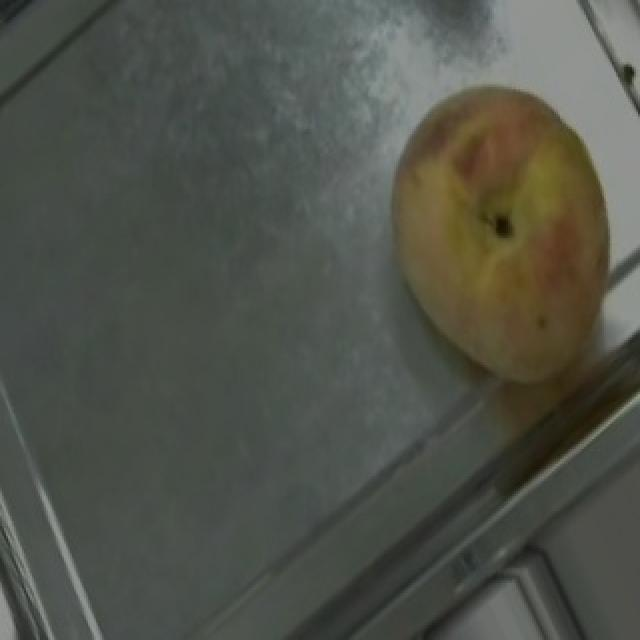Fruit: (344, 49, 640, 427)
